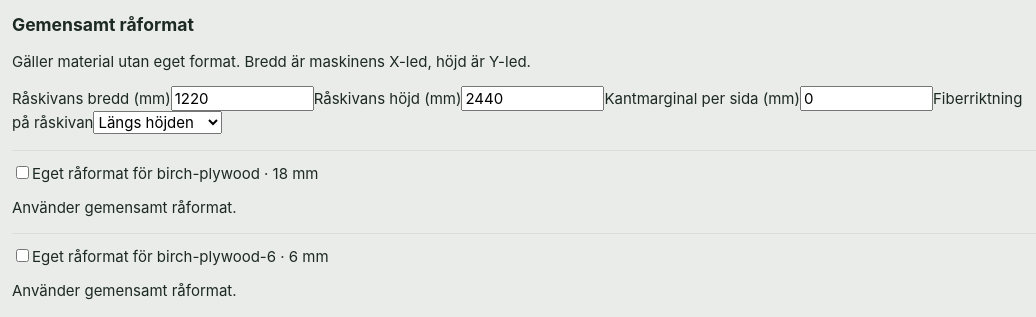
Test: råformat per material › låter ryggen ha eget format och fiberaxel och återgår uttryckligen till gemensamt format
Click the checkbox labelled "Eget råformat för birch-plywood-6 · 6 mm": {"x": 22, "y": 256} [16,249,29,262]
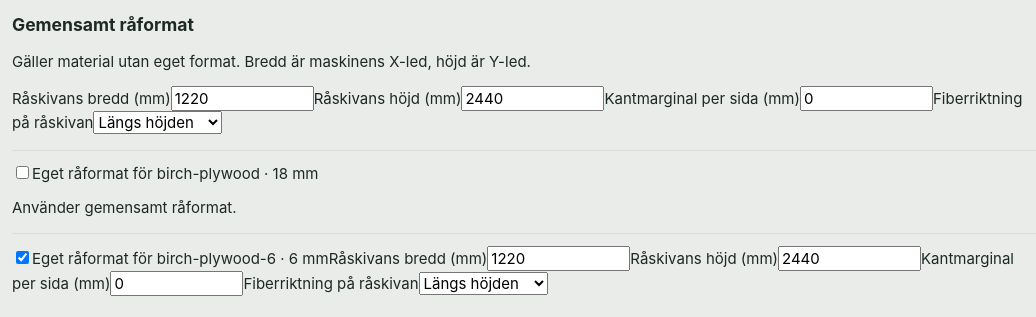
Replace the text in the number field labelled "Råskivans bredd (mm)" in the row of "birch-plywood-6 · 6 mm" with "800.001": {"x": 559, "y": 259} [487,246,630,271]
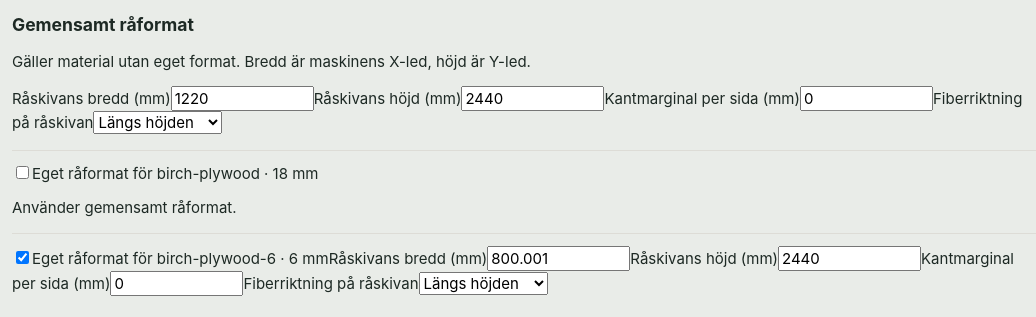
Select "Längs bredden" in the dropdown labelled "Fiberriktning på råskivan" below "birch-plywood-6 · 6 mm": {"x": 483, "y": 284} [418,272,548,295]
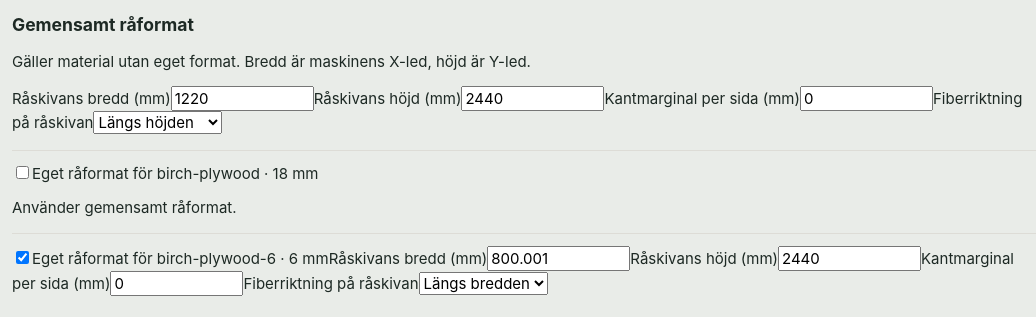
Click the checkbox labelled "Eget råformat för birch-plywood-6 · 6 mm": {"x": 22, "y": 258} [16,251,29,264]
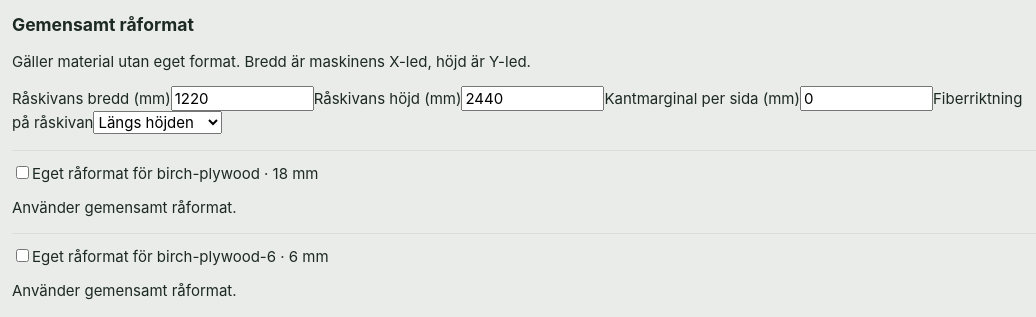
Check: the text "Använder gemensamt råformat." below "birch-plywood-6 · 6 mm" is shown, box [12,281,237,300]
